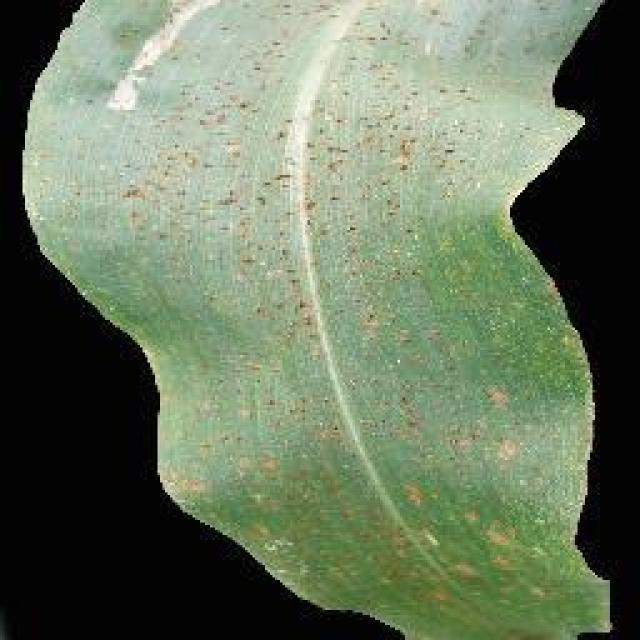Corn Common Rust: (105, 31, 640, 640)
